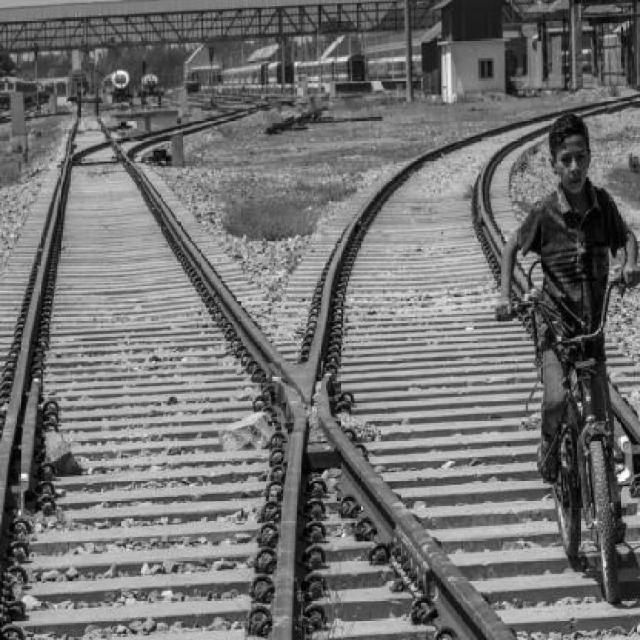Person: (491, 114, 638, 598)
